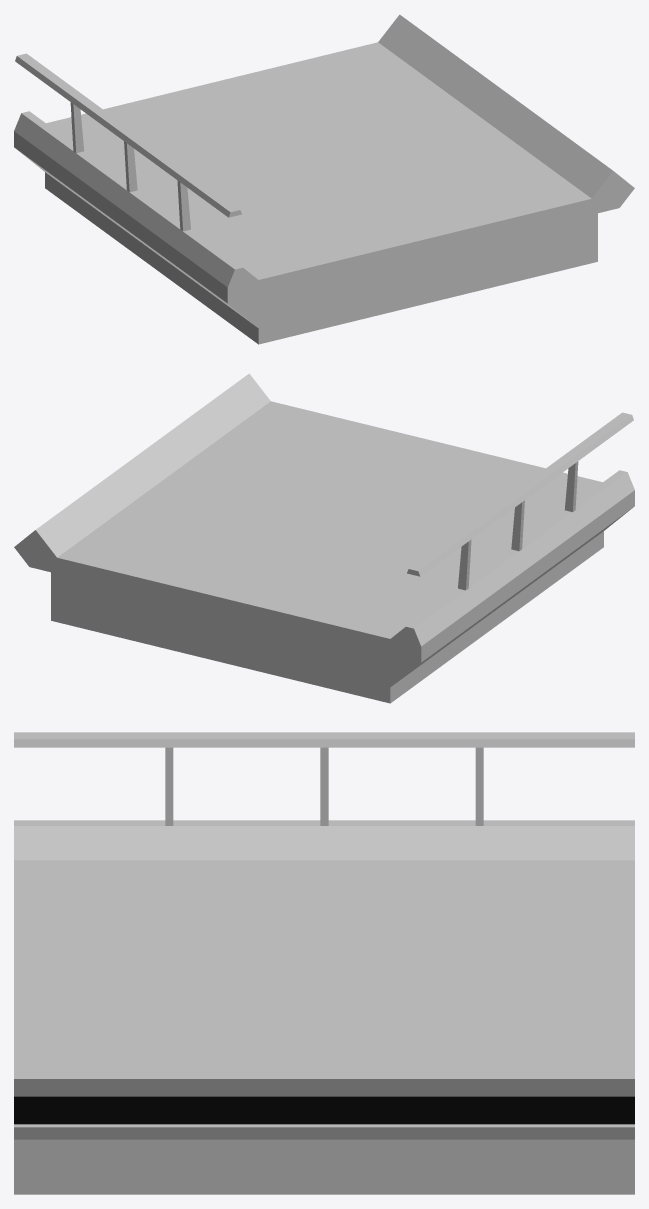
Rendered from Plateform_Line_01.FBX.
3 renders of one model, top to bottom at view 1: azimuth 30°, elevation 25°; view 2: azimuth 150°, elevation 25°; view 3: azimuth 270°, elevation 25°, orthographic. The views are drawn at different scales.
Visible parts, largest first — view 1: Floor, Plateform_Line_01; view 2: Floor, Plateform_Line_01; view 3: Floor, Plateform_Line_01, Bottom.
Boxes of the visible parts, <box> form: Floor: <box>46,42,591,279</box>; Plateform_Line_01: <box>14,14,634,344</box>; Floor: <box>57,401,602,638</box>; Plateform_Line_01: <box>14,373,634,703</box>; Floor: <box>14,860,634,1078</box>; Plateform_Line_01: <box>14,732,634,1194</box>; Bottom: <box>14,1096,634,1124</box>.
Bounding box in the file's own units: 6.6 × 2.15 × 6.
